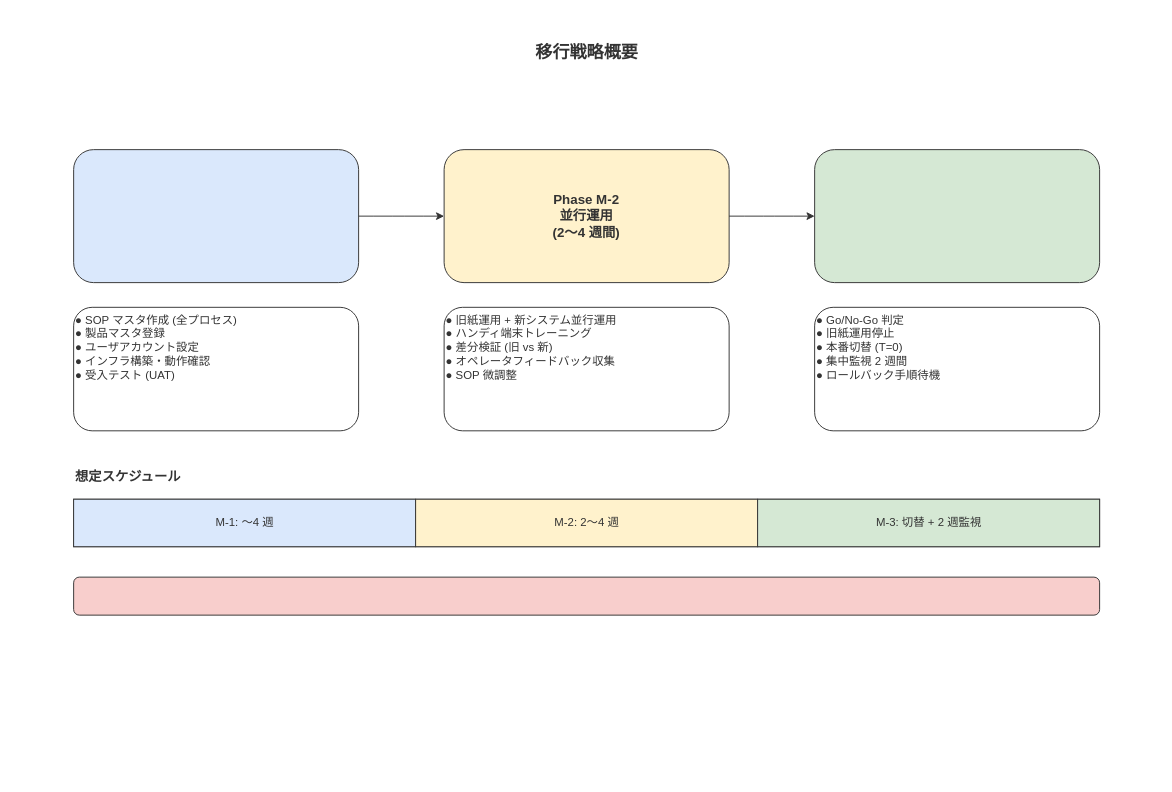
Image size: 1172x792. Some labels were removed from this diagram. The shapes that lost their labels are listed below. From the top down, each one's box as (x1, y1, x2, y2) in pixels, then its label:
(73, 149, 359, 283): Phase M-1 準備 (マスタ作成)
(814, 149, 1100, 283): Phase M-3 カットオーバー (本番切替)
(73, 576, 1100, 615): ロールバック方針: M-2 で重大問題発生時は旧紙運用に即時復帰。M-3 後 2 週間は旧運用ドキュメントを保管。
